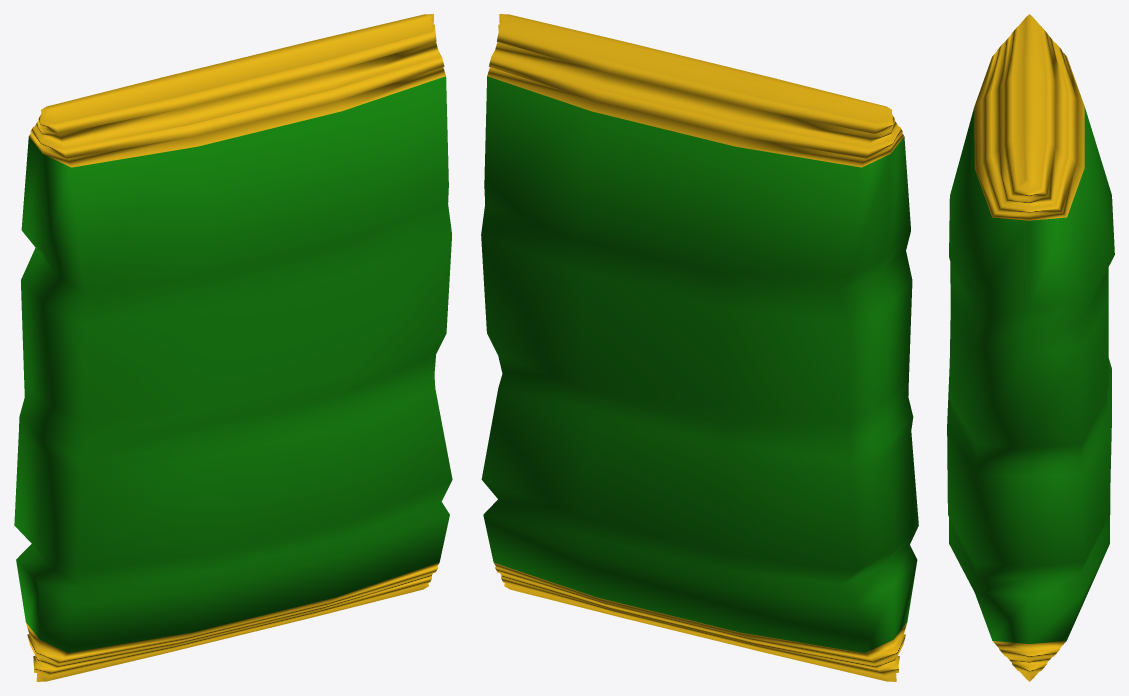
The model's file is chipspacket.fbx.
3 renders of one model, left to right at view 1: azimuth 30°, elevation 25°; view 2: azimuth 150°, elevation 25°; view 3: azimuth 270°, elevation 25°, orthographic. The views are drawn at different scales.
Parts seen in each view (by area): view 1: cips_packet; view 2: cips_packet; view 3: cips_packet.
Part boxes in pixels (x1,y1,x2,y2): cips_packet: [14, 14, 452, 681]; cips_packet: [481, 14, 918, 681]; cips_packet: [947, 14, 1114, 681].
Size of the model in its own units: 69.11 by 94.07 by 28.53.
